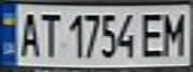1: (63, 10, 84, 58)
4: (115, 10, 142, 60)
5: (100, 10, 121, 60)
7: (81, 10, 100, 58)
A: (15, 9, 42, 58)
E: (136, 9, 169, 60)
M: (157, 8, 190, 57)
T: (36, 9, 63, 58)
